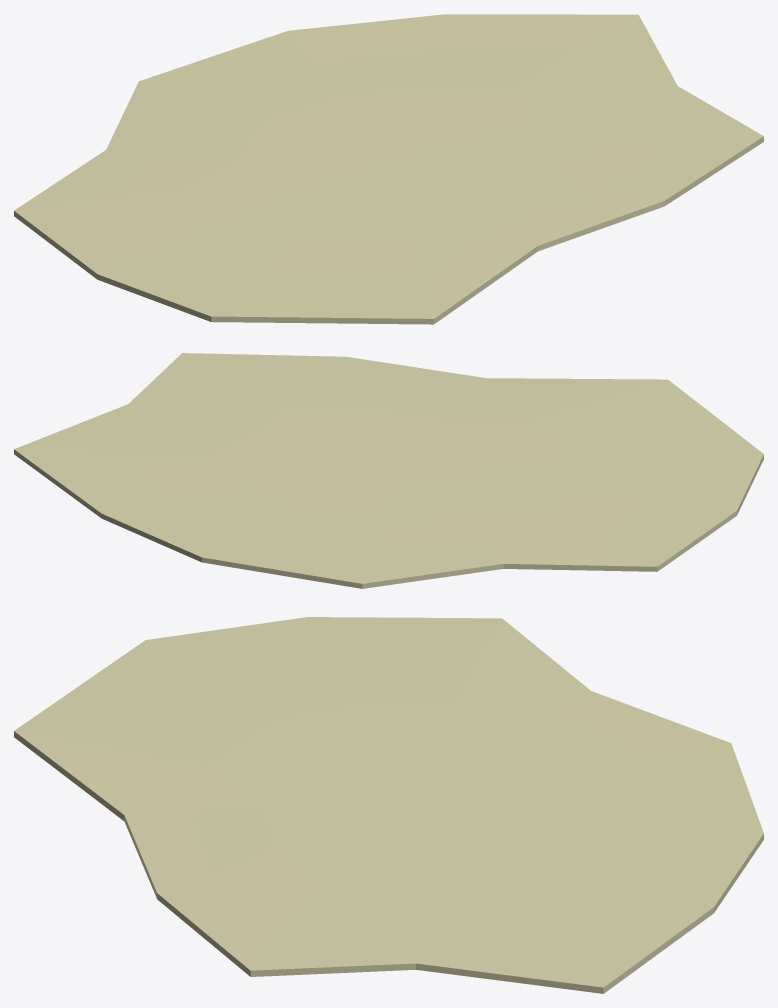
File: terrain_001a_open_sand.glb
3 views of the same model, one above another, from view 1: azimuth 30°, elevation 25°; view 2: azimuth 150°, elevation 25°; view 3: azimuth 270°, elevation 25° (orthographic). The views are drawn at different scales.
Parts seen in each view (by area): view 1: terrain_001a_open_sand__mesh; view 2: terrain_001a_open_sand__mesh; view 3: terrain_001a_open_sand__mesh.
Part boxes in pixels (box(x1,y1,x2,y2)): terrain_001a_open_sand__mesh: box(14, 14, 763, 324); terrain_001a_open_sand__mesh: box(14, 353, 763, 588); terrain_001a_open_sand__mesh: box(14, 617, 763, 993).
Size of the model in its own units: 11.3 by 0.115 by 9.67.
